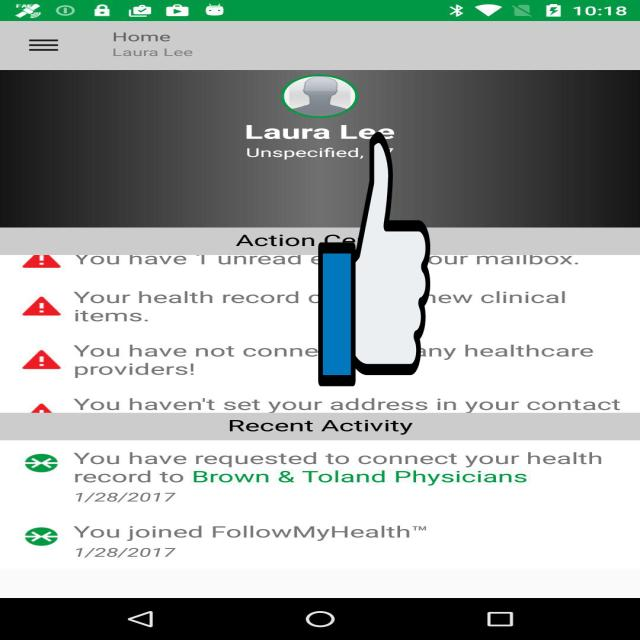privacy zuckering: (318, 126, 430, 392)
